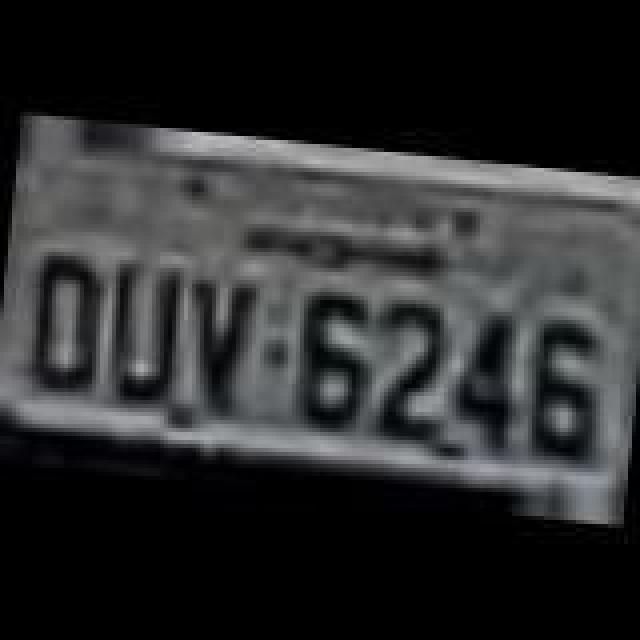2: (358, 290, 458, 446)
4: (432, 308, 528, 460)
6: (518, 312, 610, 472), (286, 284, 370, 436)
O: (20, 252, 108, 404)
U: (98, 252, 190, 404)
V: (174, 264, 258, 424)
